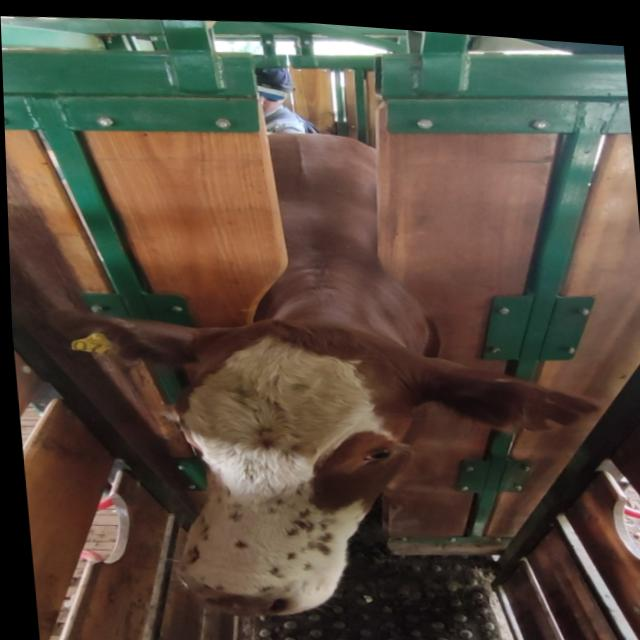cowFace: (157, 307, 418, 622)
